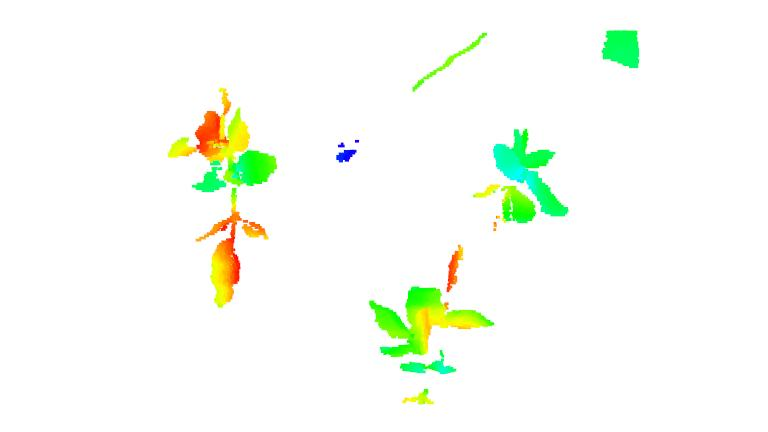mungbean: (172, 86, 275, 305), (364, 281, 496, 383), (470, 127, 568, 228)
